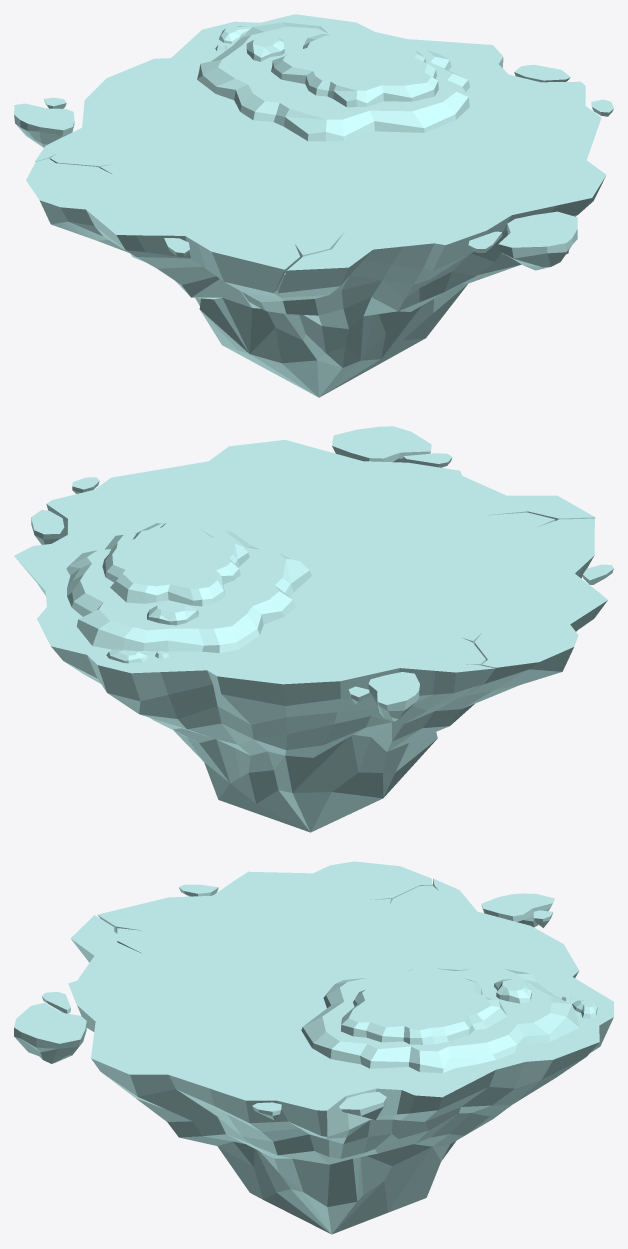
The model's file is iceberg_2.fbx.
3 renders of one model, top to bottom at view 1: azimuth 30°, elevation 25°; view 2: azimuth 150°, elevation 25°; view 3: azimuth 270°, elevation 25°, orthographic. The views are drawn at different scales.
Visible parts, largest first — view 1: main_iceberg, main_mountain_1, main_mountain_2, poti_iceberg1, poti_iceberg, little_mountain_1, toupoti_iceberg_4; view 2: main_iceberg, main_mountain_1, main_mountain_2, poti_iceberg1, poti_iceberg, little_mountain_1, toupoti_iceberg_4, toupoti_iceberg_3; view 3: main_iceberg, main_mountain_1, main_mountain_2, poti_iceberg1, poti_iceberg, toupoti_iceberg_4, little_mountain_1.
Part boxes in pixels (x1=…): main_iceberg: x1=26, y1=14, x2=606, y2=397; main_mountain_1: x1=197, y1=22, x2=469, y2=141; main_mountain_2: x1=271, y1=34, x2=438, y2=107; poti_iceberg1: x1=498, y1=211, x2=577, y2=270; poti_iceberg: x1=14, y1=103, x2=74, y2=147; little_mountain_1: x1=246, y1=35, x2=284, y2=61; toupoti_iceberg_4: x1=514, y1=64, x2=570, y2=82; main_iceberg: x1=14, y1=440, x2=607, y2=832; main_mountain_1: x1=66, y1=523, x2=311, y2=652; main_mountain_2: x1=102, y1=521, x2=249, y2=606; poti_iceberg1: x1=332, y1=426, x2=431, y2=462; poti_iceberg: x1=368, y1=672, x2=419, y2=721; little_mountain_1: x1=147, y1=602, x2=198, y2=625; toupoti_iceberg_4: x1=31, y1=510, x2=64, y2=544; toupoti_iceberg_3: x1=403, y1=453, x2=452, y2=467; main_iceberg: x1=68, y1=861, x2=613, y2=1234; main_mountain_1: x1=301, y1=968, x2=579, y2=1072; main_mountain_2: x1=341, y1=977, x2=506, y2=1044; poti_iceberg1: x1=14, y1=1003, x2=86, y2=1063; poti_iceberg: x1=481, y1=893, x2=554, y2=927; toupoti_iceberg_4: x1=339, y1=1091, x2=386, y2=1120; little_mountain_1: x1=494, y1=979, x2=531, y2=1003.
Bounding box in the file's own units: 24.02 × 12.15 × 24.32.
